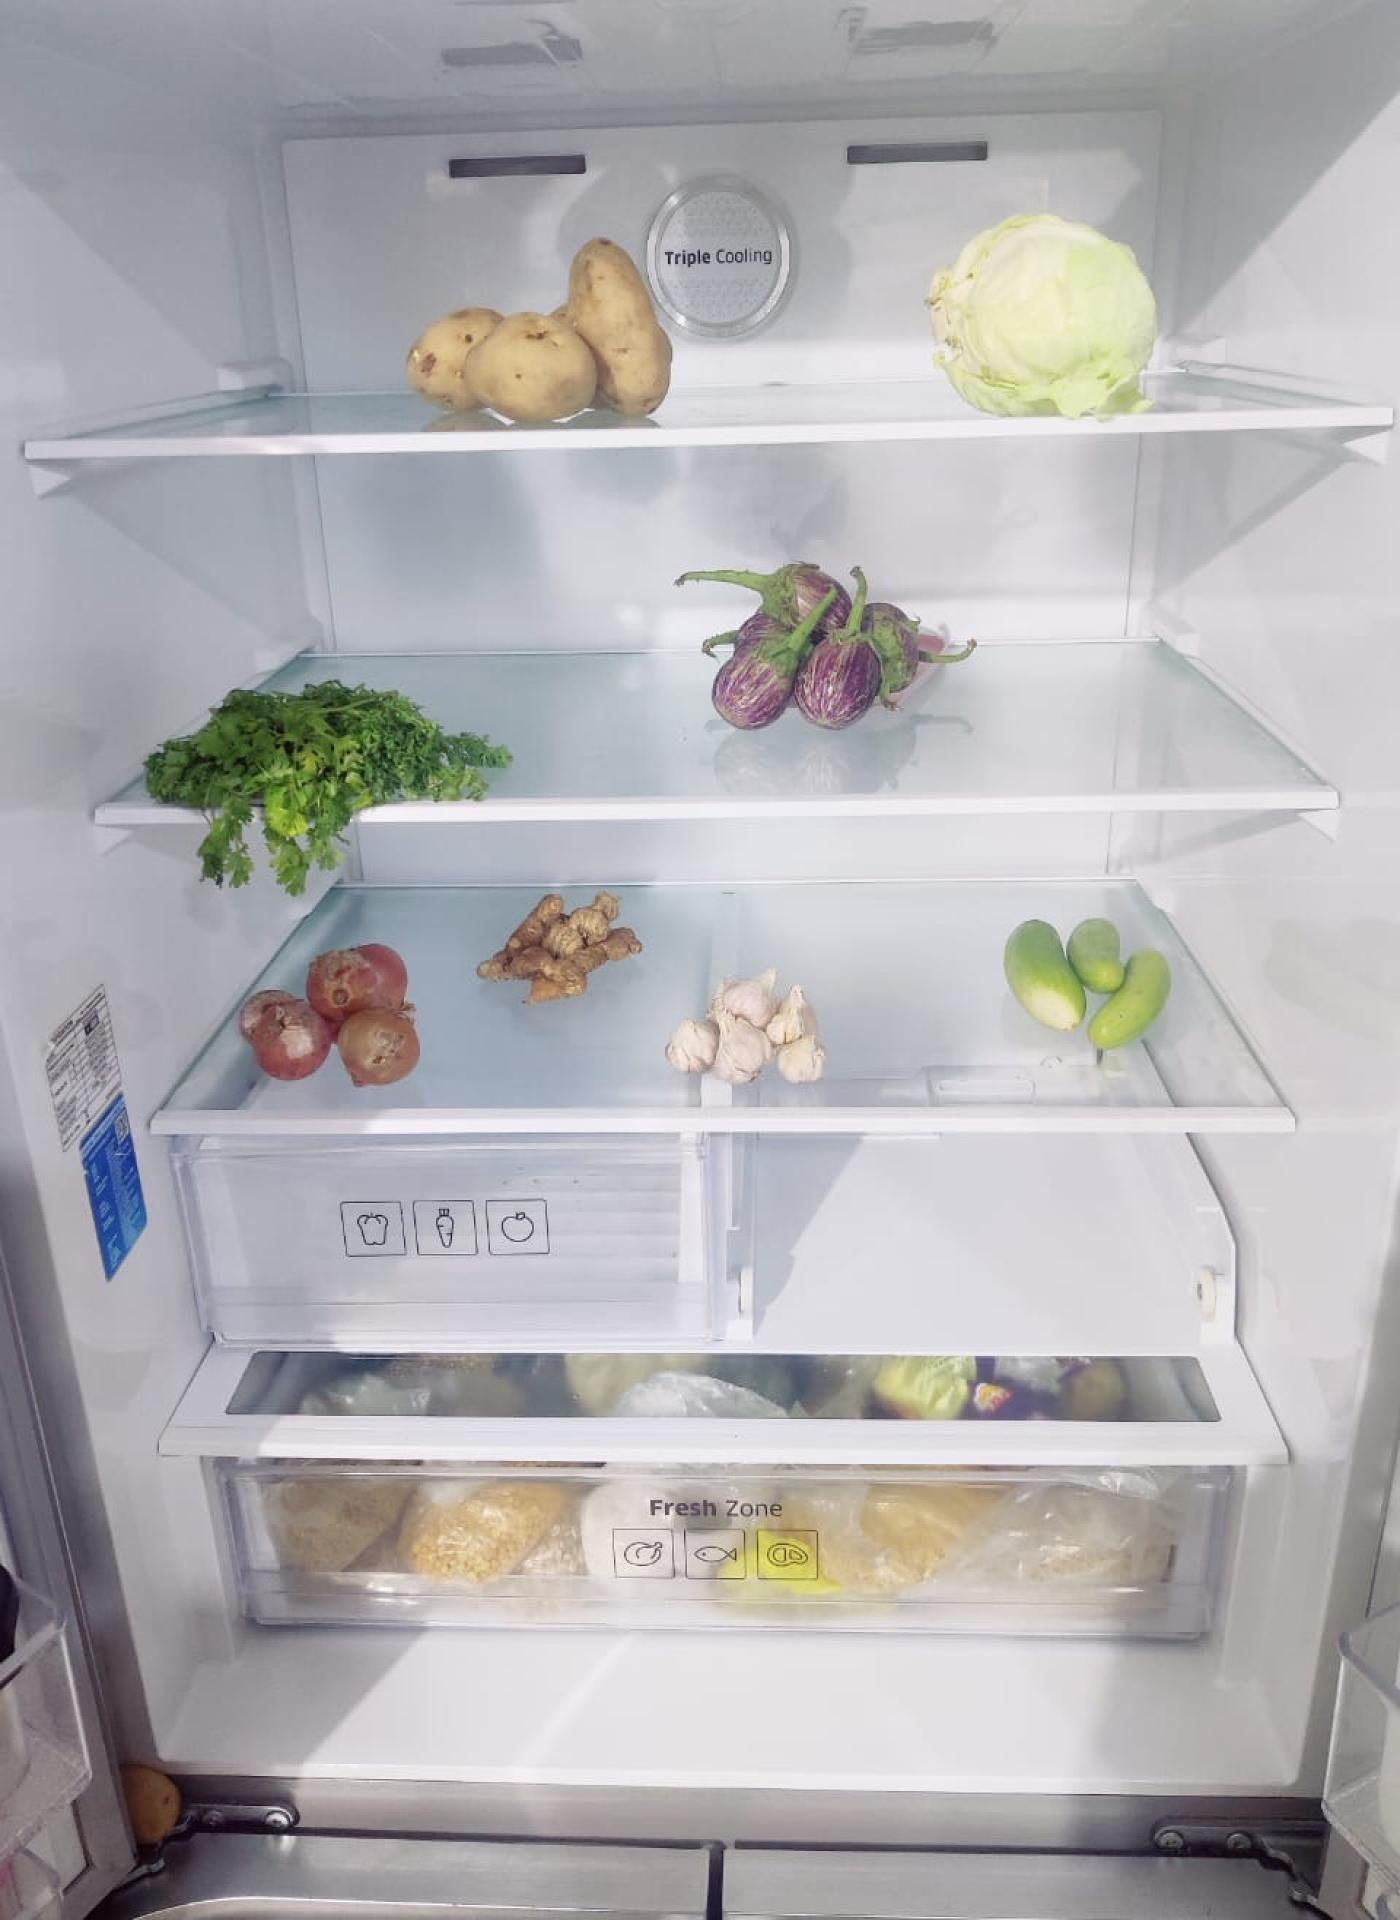brinjal: (708, 562, 941, 727)
cabbage: (933, 210, 1166, 416)
coriander: (148, 687, 491, 847)
cucumber: (1002, 909, 1172, 1048)
garlic: (672, 967, 833, 1087)
ginger: (476, 891, 638, 1003)
onion: (242, 942, 420, 1088)
potato: (410, 246, 677, 426)
